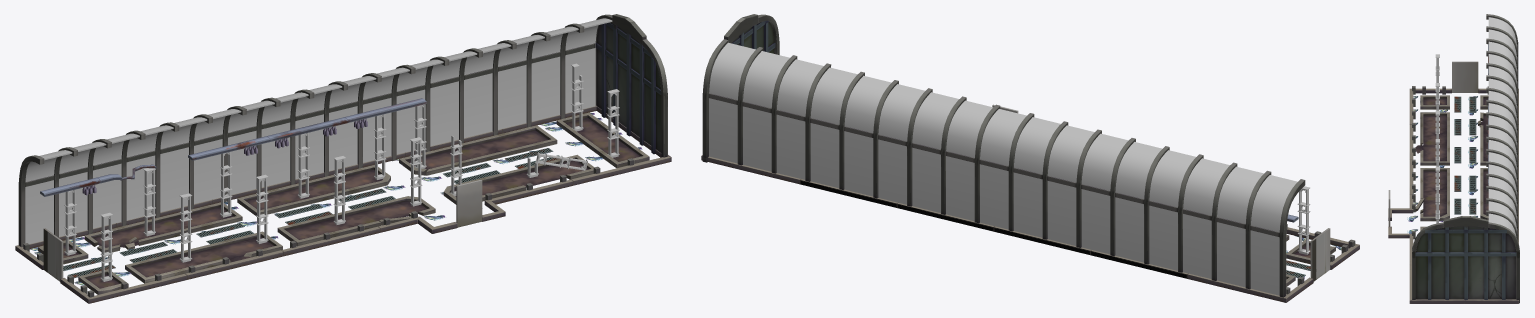
File: greenhouse.FBX
The picture shows the model from 3 angles, left to right: view 1: azimuth 30°, elevation 25°; view 2: azimuth 150°, elevation 25°; view 3: azimuth 270°, elevation 25°; orthographic projection. The views are drawn at different scales.
Visible parts, largest first — view 1: 1, 4, 3, 2, 6, 5, 9, 8, 7, 10; view 2: 1, 3, 6, 7, 2, 4, 5; view 3: 3, 5, 1, 4, 6, 8, 7, 2, 10.
Part boxes in pixels (<box>): 1: <box>25,18,612,244</box>; 4: <box>38,112,649,294</box>; 3: <box>18,14,667,297</box>; 2: <box>64,63,619,281</box>; 6: <box>15,105,671,303</box>; 5: <box>596,23,661,152</box>; 9: <box>40,98,426,196</box>; 8: <box>63,148,559,278</box>; 7: <box>43,180,482,281</box>; 10: <box>30,113,642,285</box>; 1: <box>709,42,1297,295</box>; 3: <box>702,14,1355,297</box>; 6: <box>701,155,1359,302</box>; 7: <box>992,104,1330,281</box>; 2: <box>1297,186,1310,254</box>; 4: <box>1286,234,1335,286</box>; 5: <box>731,22,774,53</box>; 3: <box>1412,14,1519,303</box>; 5: <box>1415,226,1516,299</box>; 1: <box>1488,17,1516,236</box>; 4: <box>1415,95,1488,230</box>; 6: <box>1388,88,1518,303</box>; 8: <box>1454,96,1476,214</box>; 7: <box>1388,61,1478,226</box>; 2: <box>1435,54,1439,223</box>; 10: <box>1407,96,1478,243</box>.
Size of the model in its own units: 74.09 by 14.04 by 19.57.
